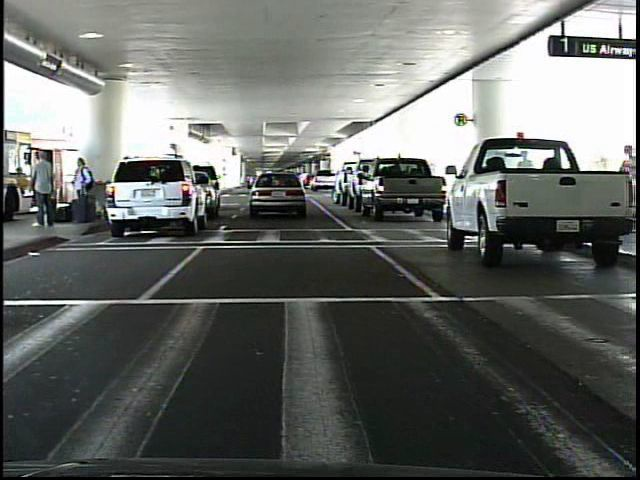person: (28, 149, 58, 228), (613, 140, 636, 234), (69, 156, 93, 226)
